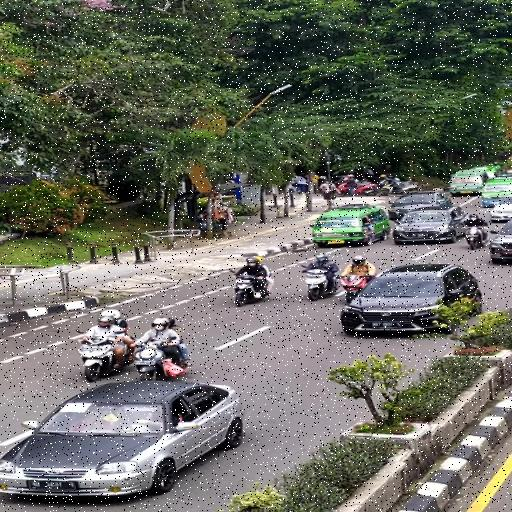Helmet: (92, 307, 121, 330), (151, 316, 175, 334), (242, 255, 261, 270), (350, 254, 369, 268), (314, 250, 330, 264)
Motor: (128, 341, 185, 379), (78, 338, 118, 378), (305, 268, 336, 302), (234, 276, 266, 308), (341, 274, 370, 305), (464, 224, 488, 249)
